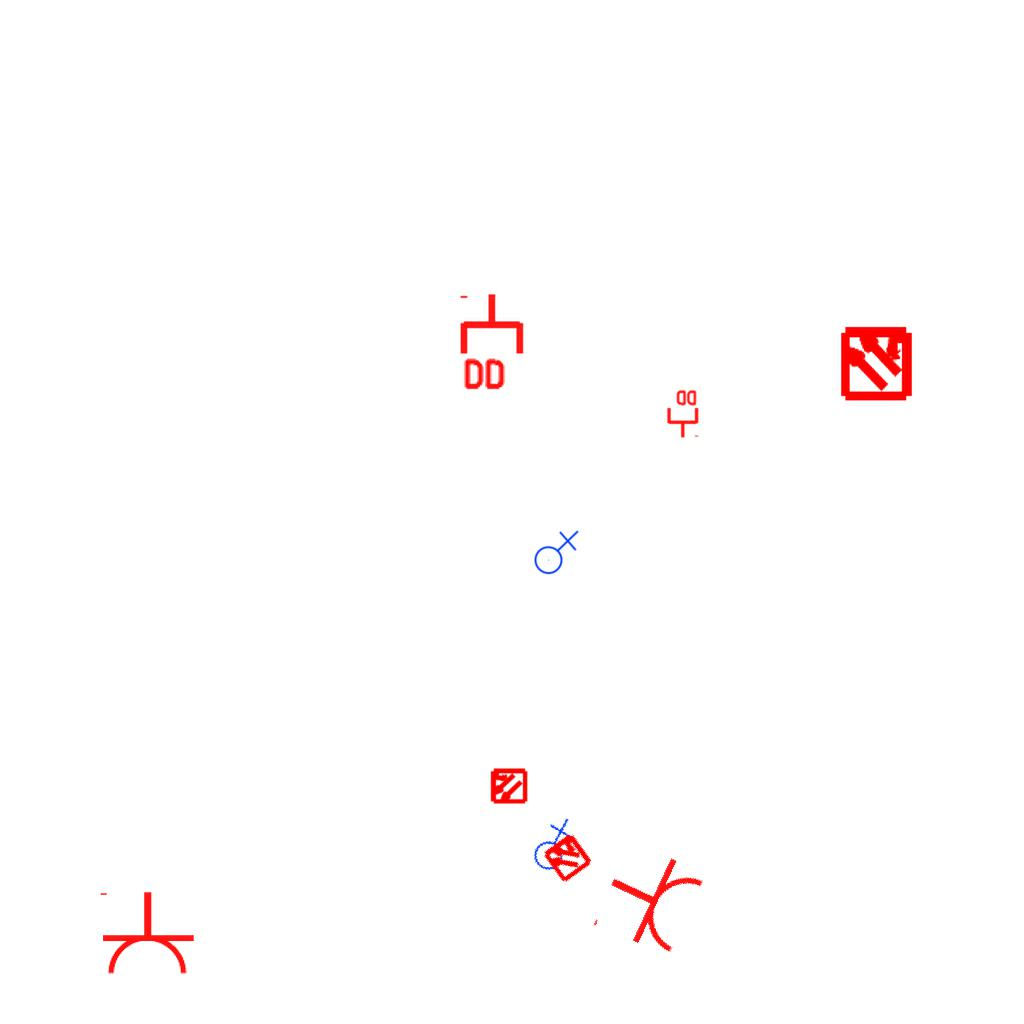Datenanschluss_zweifach: (459, 291, 528, 394), (665, 388, 699, 439)
Elektroanschluss_allgemein_230V_Geraeteanschlussdose_230V: (520, 815, 583, 876), (530, 528, 579, 575)
OT_Multisensormelder_(Kombination_RMO_WMD): (820, 305, 933, 418), (527, 817, 607, 897), (480, 758, 536, 814)
Schukosteckdose_einfach: (588, 837, 711, 965), (96, 890, 196, 977)
